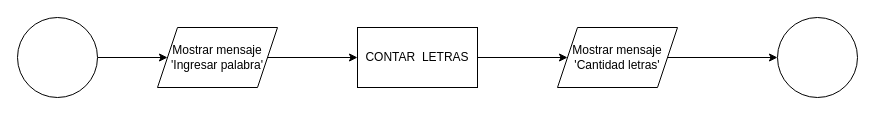
This 875x115 diagram has some shape labels left out. Here are the shapes that lost their labels. From the top down, the box of each, then its label:
(16, 16, 98, 98): INICIO
(776, 16, 858, 98): FIN
